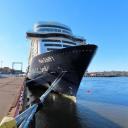cruises: (25, 20, 101, 103)
